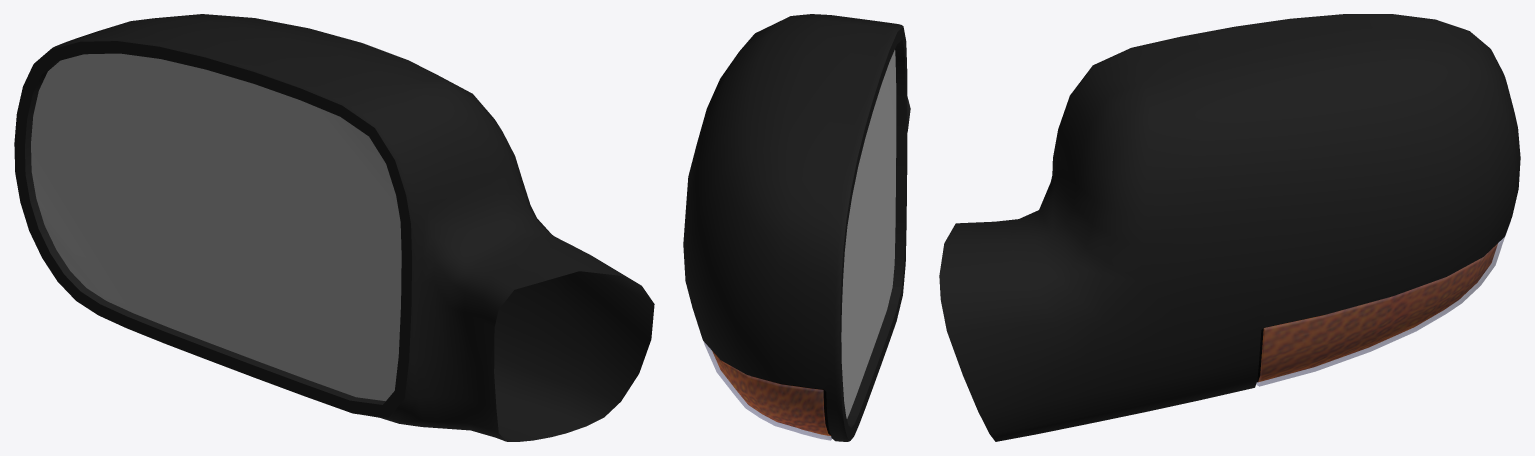
3 renders of one model, left to right at view 1: azimuth 30°, elevation 25°; view 2: azimuth 150°, elevation 25°; view 3: azimuth 270°, elevation 25°, orthographic. The views are drawn at different scales.
Visible parts, largest first — view 1: U721_261I_L_U721_261I_L_3_D, U721_261I_L_U721_261I_L_4_DTaSI; view 2: U721_261I_L_U721_261I_L_3_D, U721_261I_L_U721_261I_L_4_DTaSI, U721_261I_L_U721_261I_L_2_DTaSI, U721_261I_L_1_N_U721_261I_L; view 3: U721_261I_L_U721_261I_L_3_D, U721_261I_L_U721_261I_L_2_DTaSI, U721_261I_L_1_N_U721_261I_L.
Boxes of the visible parts, box(x1,y1,x2,y2) form: U721_261I_L_U721_261I_L_3_D: box(14, 14, 654, 441); U721_261I_L_U721_261I_L_4_DTaSI: box(31, 53, 401, 401); U721_261I_L_U721_261I_L_3_D: box(683, 14, 910, 441); U721_261I_L_U721_261I_L_4_DTaSI: box(841, 50, 896, 418); U721_261I_L_U721_261I_L_2_DTaSI: box(703, 341, 831, 440); U721_261I_L_1_N_U721_261I_L: box(712, 351, 830, 435); U721_261I_L_U721_261I_L_3_D: box(939, 14, 1520, 441); U721_261I_L_U721_261I_L_2_DTaSI: box(1256, 222, 1510, 386); U721_261I_L_1_N_U721_261I_L: box(1258, 243, 1497, 382).
Size of the model in its own units: 25.46 by 22.04 by 36.64.
